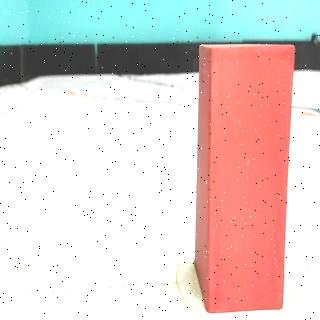redbox: (194, 42, 296, 315)
